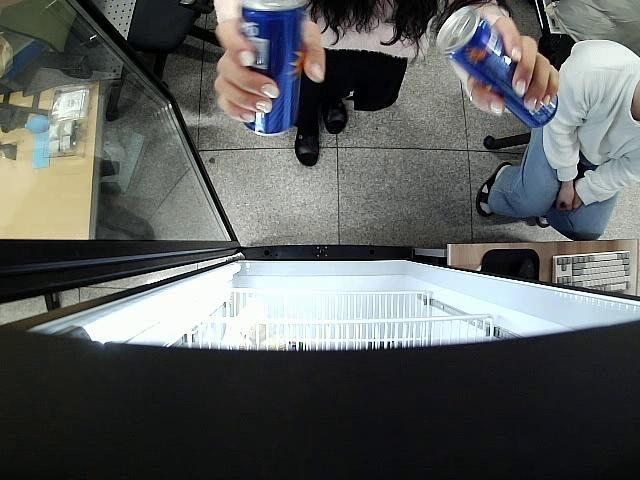16_hot6: (437, 7, 560, 132), (240, 0, 310, 138)
